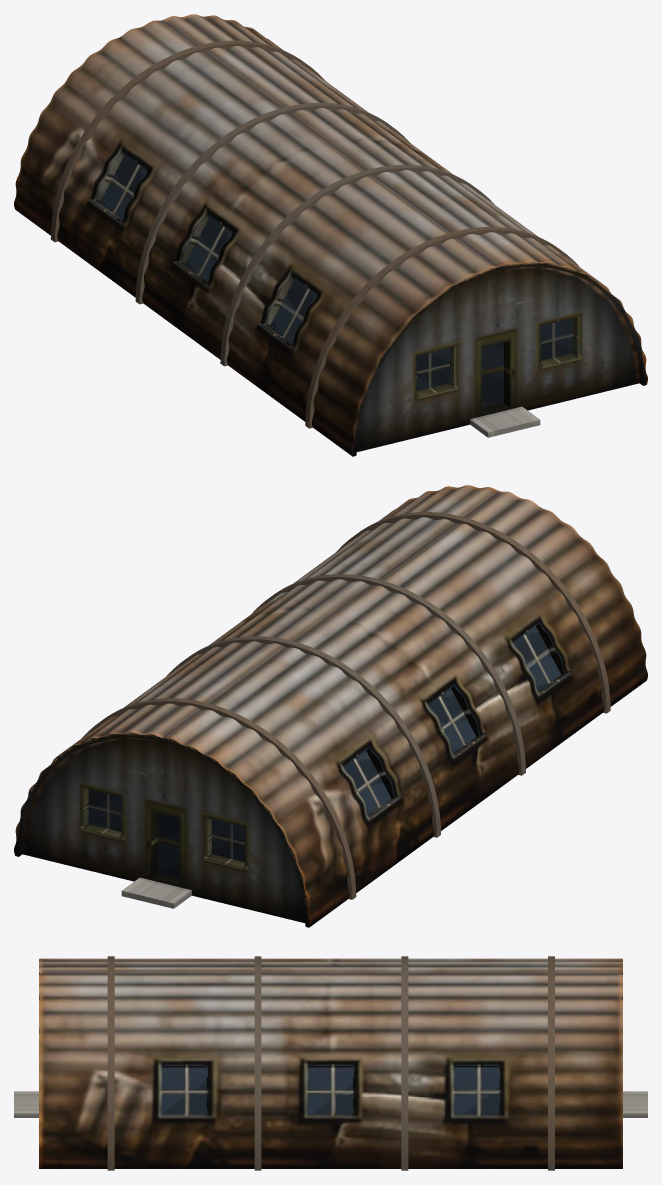
File: quonset_cad.glb
The picture shows the model from 3 angles, top to bottom: view 1: azimuth 30°, elevation 25°; view 2: azimuth 150°, elevation 25°; view 3: azimuth 270°, elevation 25°; orthographic projection. The views are drawn at different scales.
Parts seen in each view (by area): view 1: Quonset hut; view 2: Quonset hut; view 3: Quonset hut.
Part boxes in pixels (x1,y1,x2,y2): Quonset hut: (14,14,647,456); Quonset hut: (14,485,647,927); Quonset hut: (14,956,647,1170).
Bounding box in the file's own units: 8.68 × 4.34 × 18.27.
Materials: 1 (1 with a texture image).
